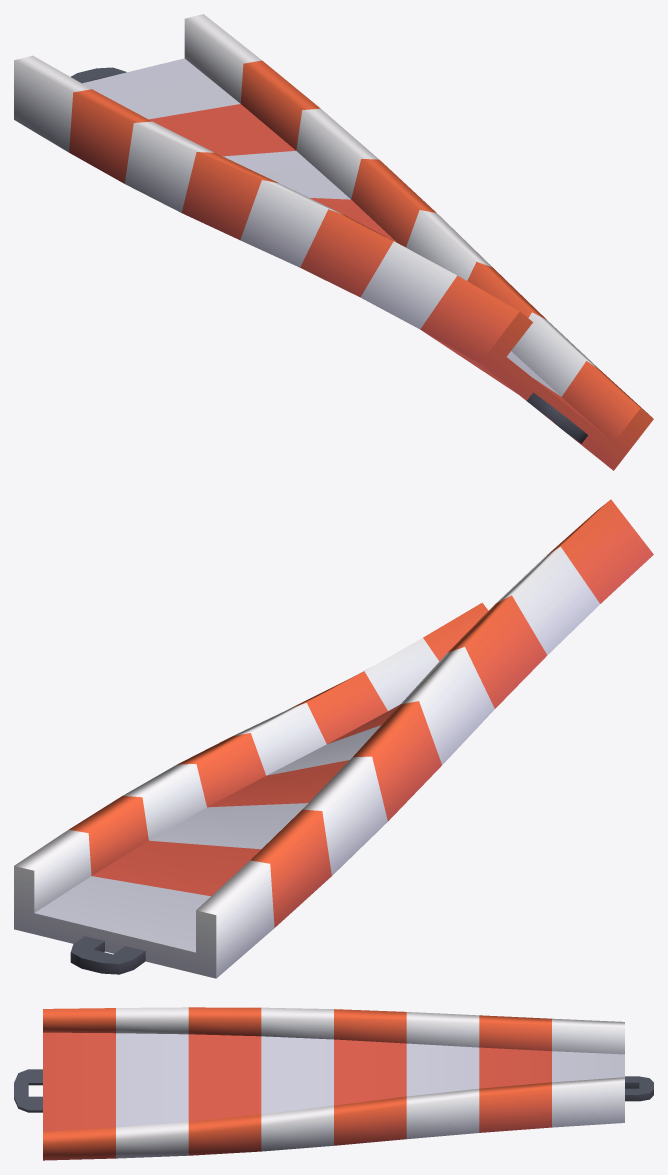
File: track-striped-narrow-straight-skew-left.glb
3 views of the same model, one above another, from view 1: azimuth 30°, elevation 25°; view 2: azimuth 150°, elevation 25°; view 3: azimuth 270°, elevation 25° (orthographic). The views are drawn at different scales.
Parts seen in each view (by area): view 1: track-striped-narrow-straight-skew-left; view 2: track-striped-narrow-straight-skew-left; view 3: track-striped-narrow-straight-skew-left.
Boxes of the visible parts, bbox=[...] form: track-striped-narrow-straight-skew-left: bbox=[14, 14, 653, 470]; track-striped-narrow-straight-skew-left: bbox=[14, 499, 653, 978]; track-striped-narrow-straight-skew-left: bbox=[14, 1007, 653, 1160].
Bounding box in the file's own units: 1.08 × 0.919 × 4.4.
Materials: 1 (1 with a texture image).
